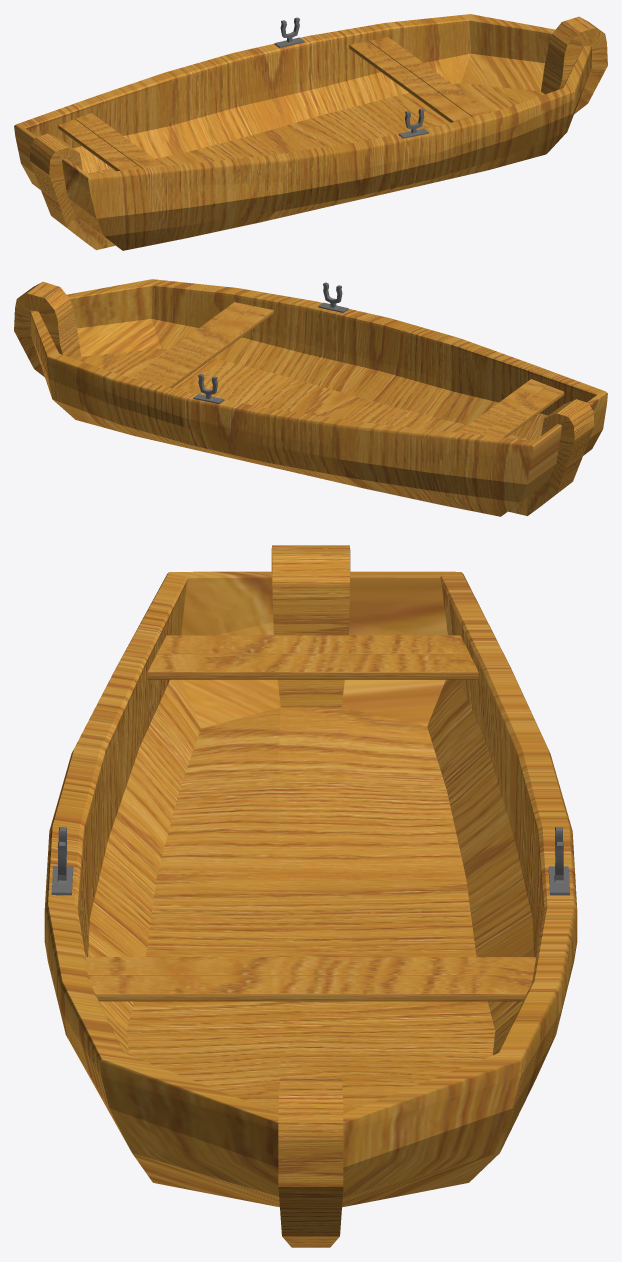
File: BoatOK.fbx
3 renders of one model, top to bottom at view 1: azimuth 30°, elevation 25°; view 2: azimuth 150°, elevation 25°; view 3: azimuth 270°, elevation 25°, orthographic. The views are drawn at different scales.
Visible parts, largest first — view 1: pCube2, pCube4, pCube5, pCube7, pCube6, pCube9, pCube10; view 2: pCube2, pCube4, pCube5, pCube7, pCube6, pCube9, pCube10; view 3: pCube2, pCube5, pCube4, pCube6, pCube7, pCube10, pCube9.
Part boxes in pixels (x1,y1,x2,y2): pCube2: [14, 14, 607, 250]; pCube4: [349, 41, 471, 122]; pCube5: [369, 37, 490, 116]; pCube7: [58, 119, 141, 171]; pCube6: [75, 113, 163, 168]; pCube9: [274, 17, 304, 47]; pCube10: [398, 108, 428, 138]; pCube2: [14, 279, 607, 516]; pCube4: [150, 306, 273, 388]; pCube5: [131, 302, 253, 382]; pCube7: [480, 385, 564, 437]; pCube6: [458, 379, 547, 434]; pCube9: [193, 374, 224, 403]; pCube10: [318, 282, 348, 312]; pCube2: [44, 545, 577, 1247]; pCube5: [89, 975, 532, 1001]; pCube4: [85, 957, 536, 975]; pCube6: [147, 654, 478, 679]; pCube7: [157, 635, 469, 654]; pCube10: [51, 827, 73, 895]; pCube9: [548, 827, 569, 895].
Bounding box in the file's own units: 9.8 × 1.96 × 4.03.
Materials: 2 (1 with a texture image).
